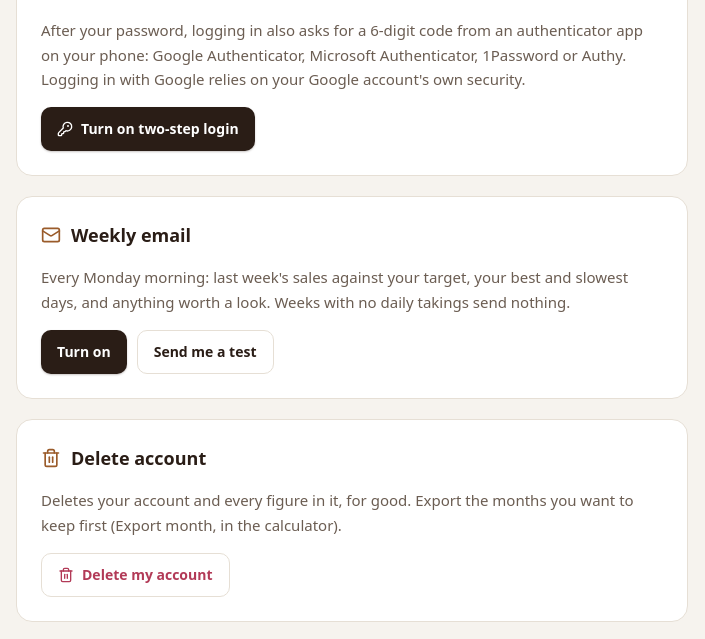
the weekly email card › turns on and off
(page scrolled)
Click the button "Turn on". click: (84, 352)
box: [41, 330, 127, 374]
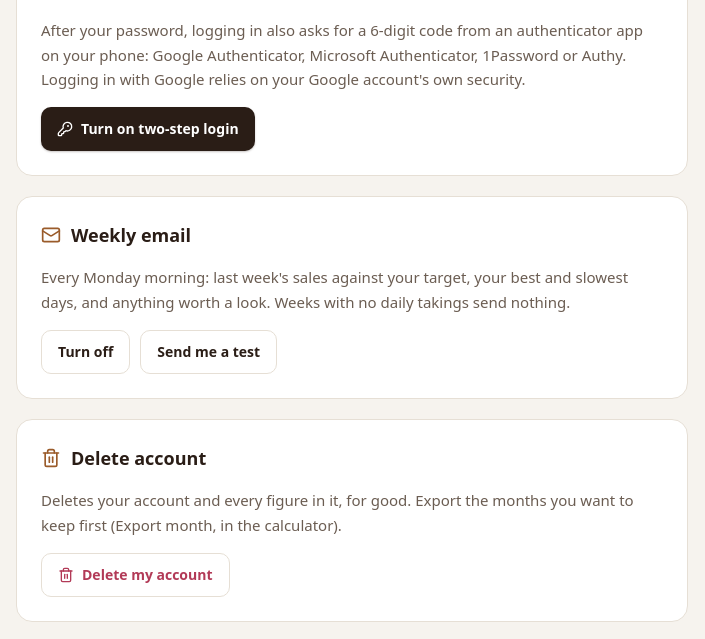
Click the button "Turn off". click: (86, 352)
box: [41, 330, 130, 374]
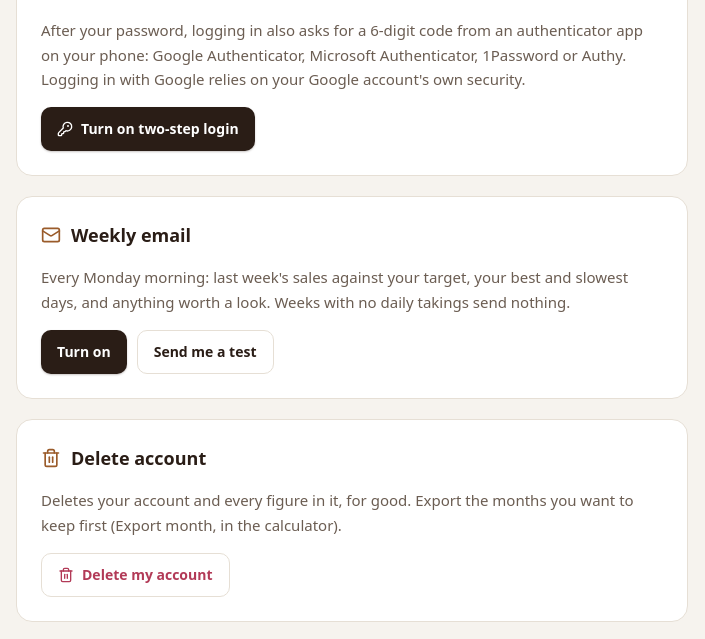
Result: the button "Turn on" is shown at [41, 330, 127, 374]
